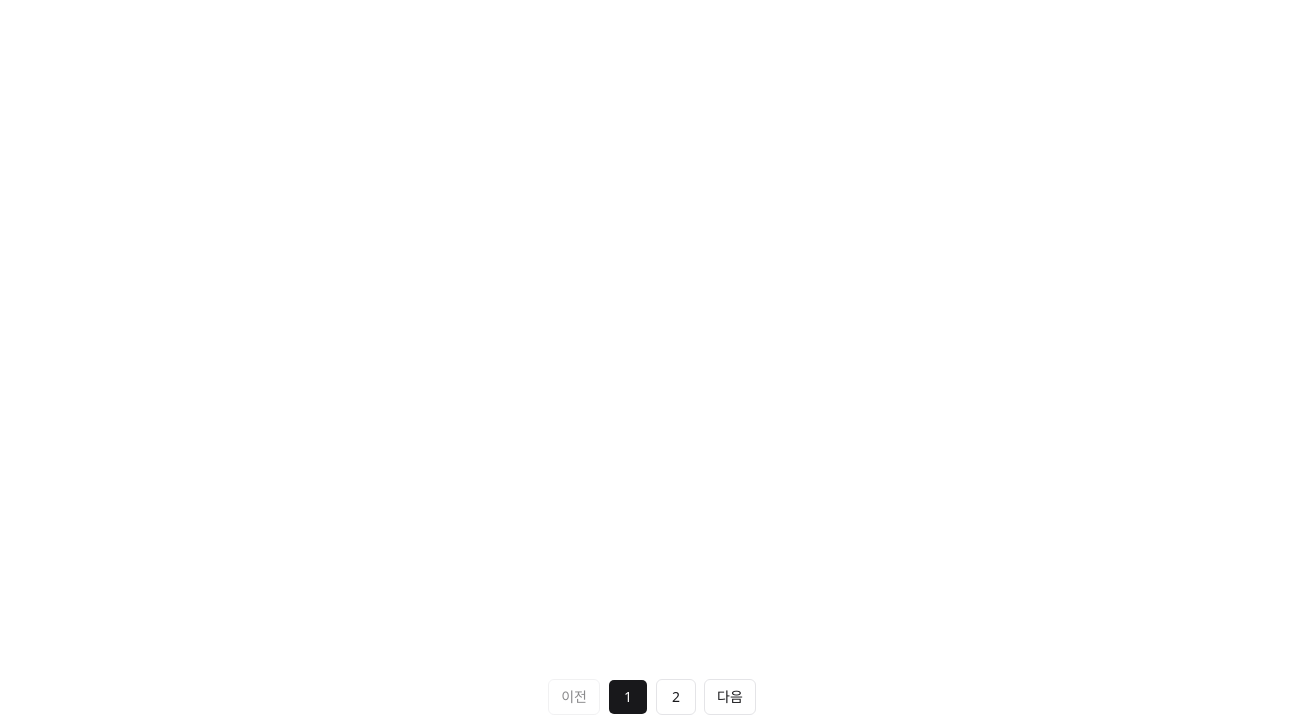
Scenario: ProjectsPage › 첫 페이지에는 6개 프로젝트만 보여주고 다음 페이지로 이동할 수 있다
(page scrolled)
Click the button "다음".
click(730, 697)  # box [704,679,756,714]
(page scrolled)
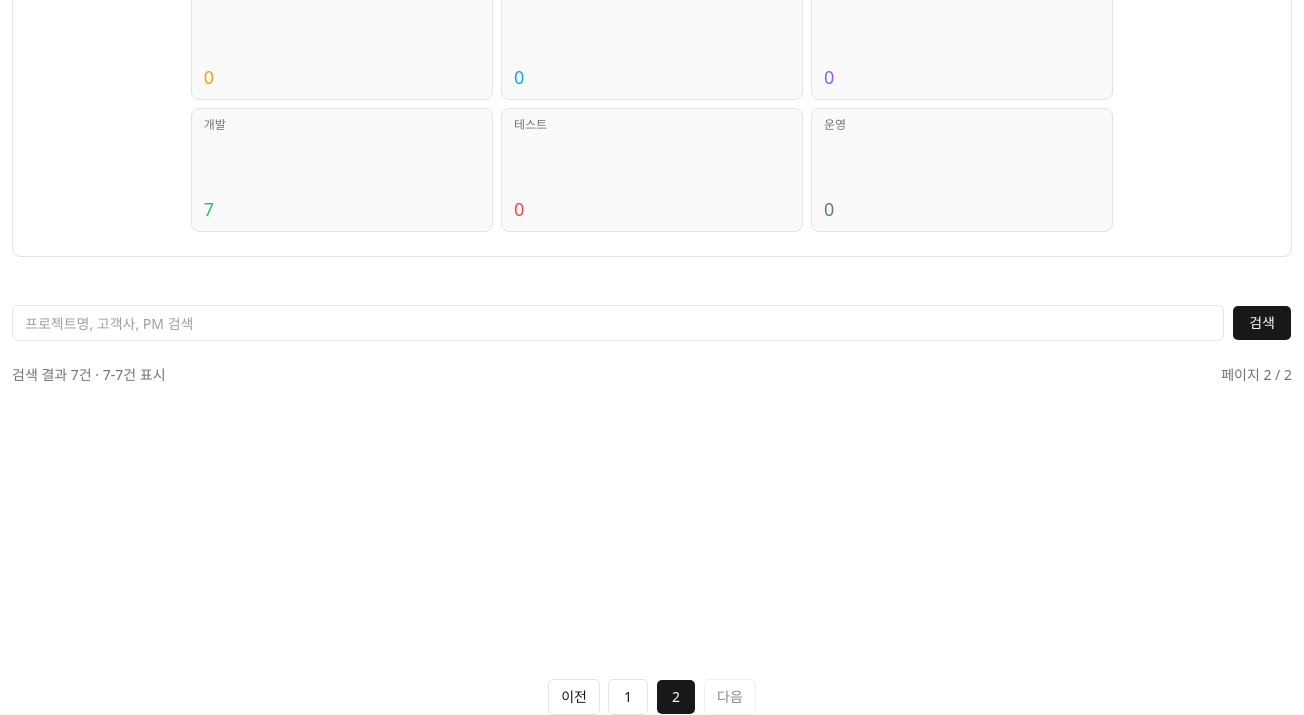
Expected: the text "검색 결과 7건 · 7-7건 표시" is shown, [12,365,166,385]
Expected: the button "이전" is enabled, [548,679,600,714]
Expected: the button "다음" is disabled, [704,679,756,714]
